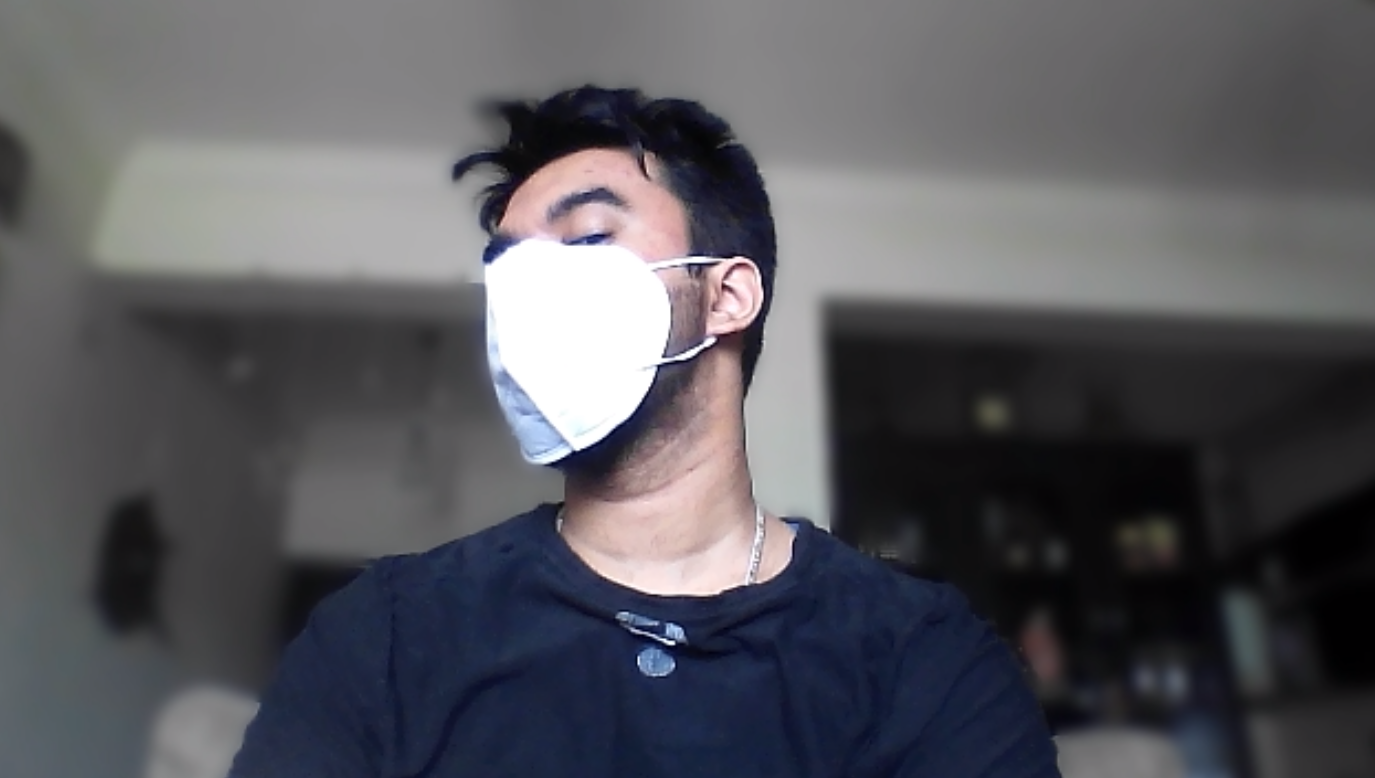Mask: (482, 245, 767, 473)
